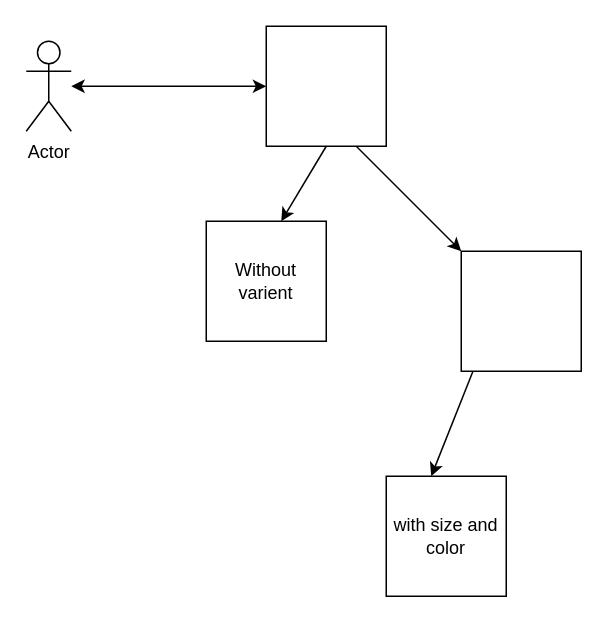
This 608x623 diagram has some shape labels left out. Here are the shapes that lost their labels. From the top down, the box of each, then its label:
(265, 25, 386, 146): Product
(460, 250, 581, 371): with varinent
